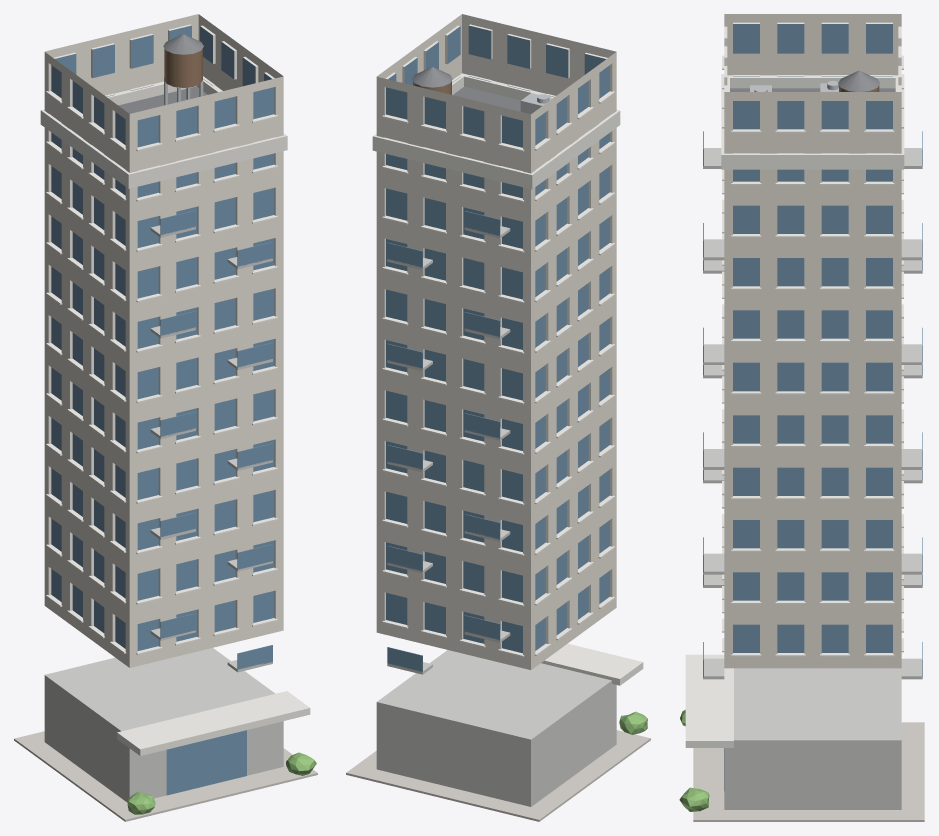
3 views of the same model, side by side, from view 1: azimuth 30°, elevation 25°; view 2: azimuth 150°, elevation 25°; view 3: azimuth 270°, elevation 25° (orthographic). The views are drawn at different scales.
Parts seen in each view (by area): view 1: r_3_1_b; view 2: r_3_1_b; view 3: r_3_1_b.
Part boxes in pixels (x1,y1,x2,y2): r_3_1_b: [14, 14, 317, 821]; r_3_1_b: [346, 14, 650, 821]; r_3_1_b: [679, 14, 924, 821].
Bounding box in the file's own units: 12 × 41.42 × 12.74.
